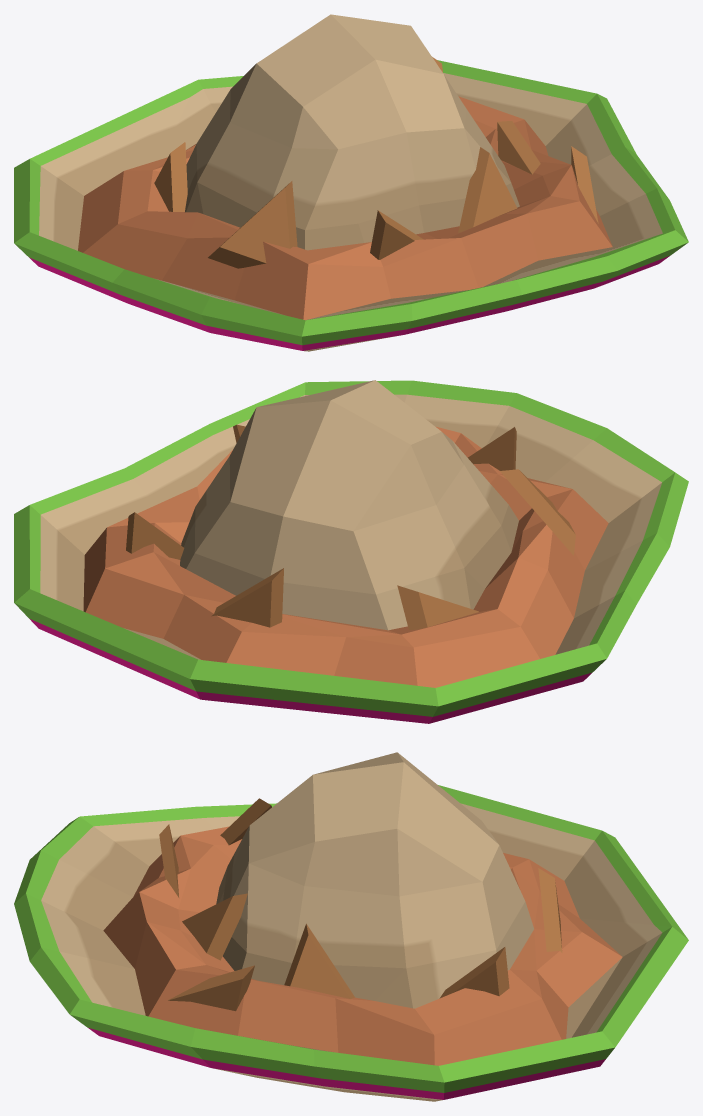
The model's file is SM_Chr_Attach_Hat_04.fbx.
The picture shows the model from 3 angles, top to bottom: view 1: azimuth 30°, elevation 25°; view 2: azimuth 150°, elevation 25°; view 3: azimuth 270°, elevation 25°; orthographic projection.
Parts seen in each view (by area): view 1: SM_Chr_Attach_Hat_04; view 2: SM_Chr_Attach_Hat_04; view 3: SM_Chr_Attach_Hat_04.
Boxes of the visible parts, x1=… form: SM_Chr_Attach_Hat_04: x1=14, y1=14, x2=688, y2=351; SM_Chr_Attach_Hat_04: x1=14, y1=380, x2=688, y2=723; SM_Chr_Attach_Hat_04: x1=14, y1=752, x2=688, y2=1101.
Size of the model in its own units: 61.34 by 23.65 by 59.61.
